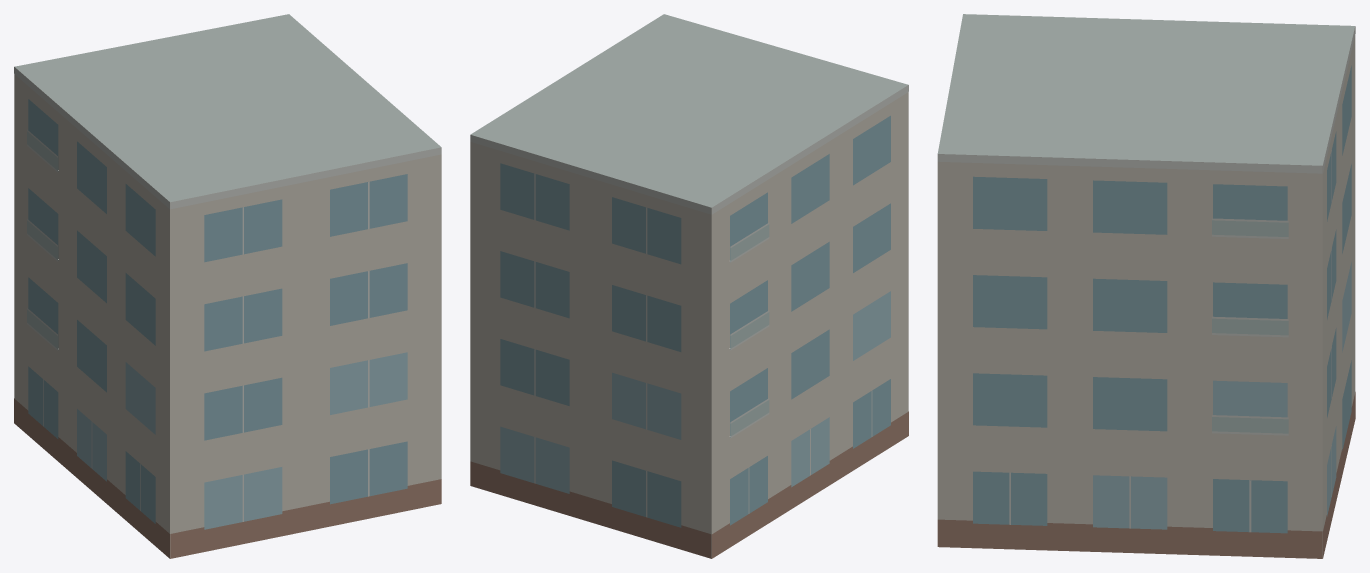
Rendered from survey-upis-32831381.glb.
3 renders of one model, left to right at view 1: azimuth 30°, elevation 25°; view 2: azimuth 150°, elevation 25°; view 3: azimuth 270°, elevation 25°, orthographic. The views are drawn at different scales.
Parts seen in each view (by area): view 1: survey-upis-32831381.tmp; view 2: survey-upis-32831381.tmp; view 3: survey-upis-32831381.tmp.
Part boxes in pixels (x1,y1,x2,y2): survey-upis-32831381.tmp: [14, 14, 441, 558]; survey-upis-32831381.tmp: [470, 14, 908, 558]; survey-upis-32831381.tmp: [937, 14, 1355, 558].
Bounding box in the file's own units: 10.11 × 12.2 × 11.76.
